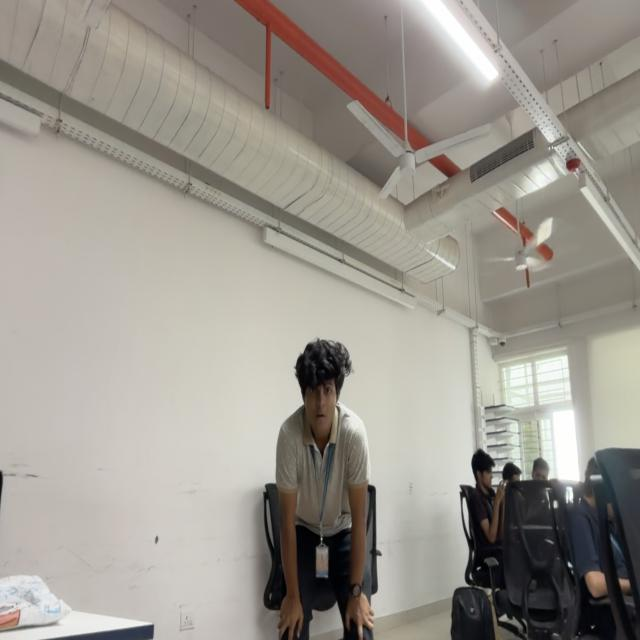kshitij: (298, 341, 350, 435)
